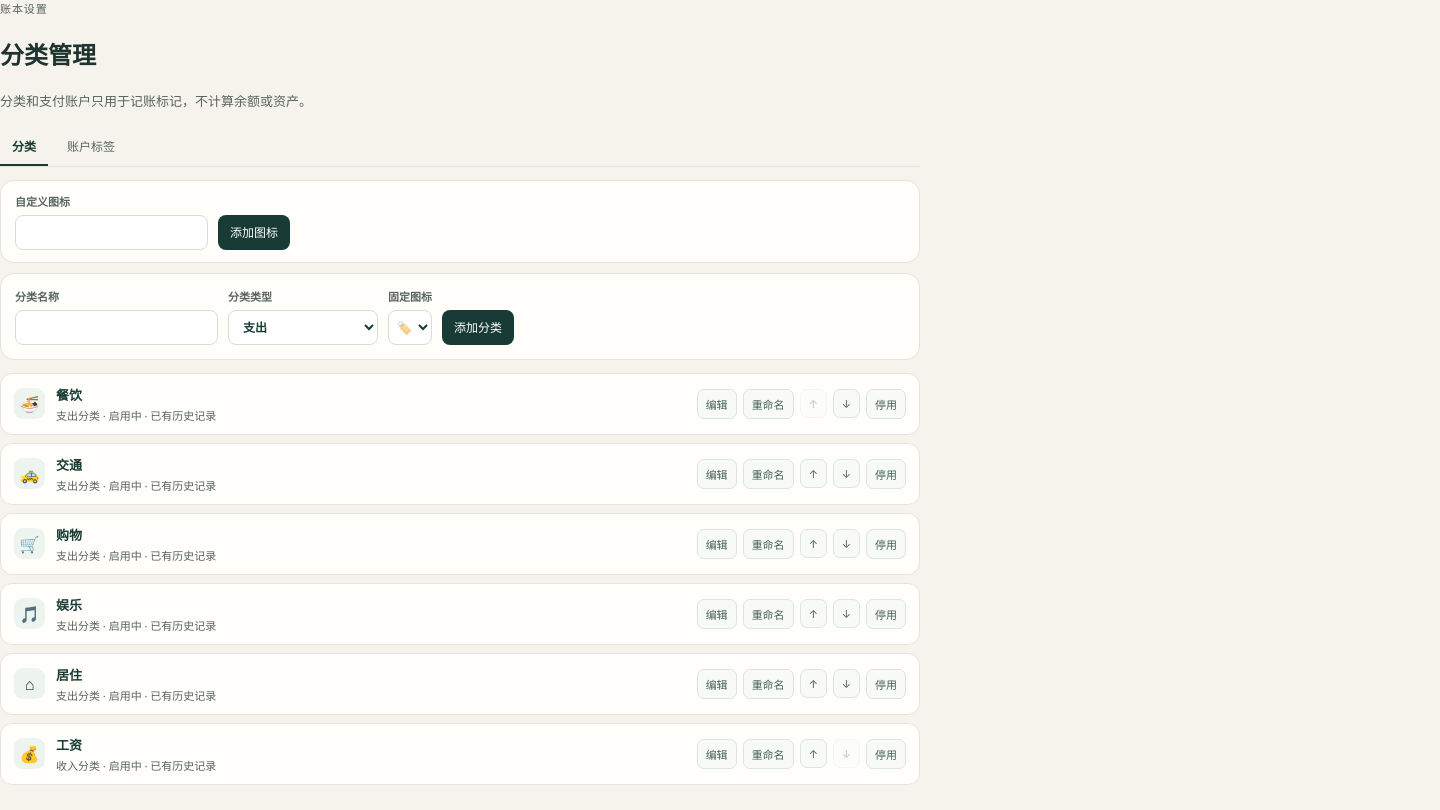
LabelsPage › 迁移回滚失败时在对话框内保留可恢复提示
Click the button "停用" in the row of "餐饮" at (886, 404), box [866,389,906,419]
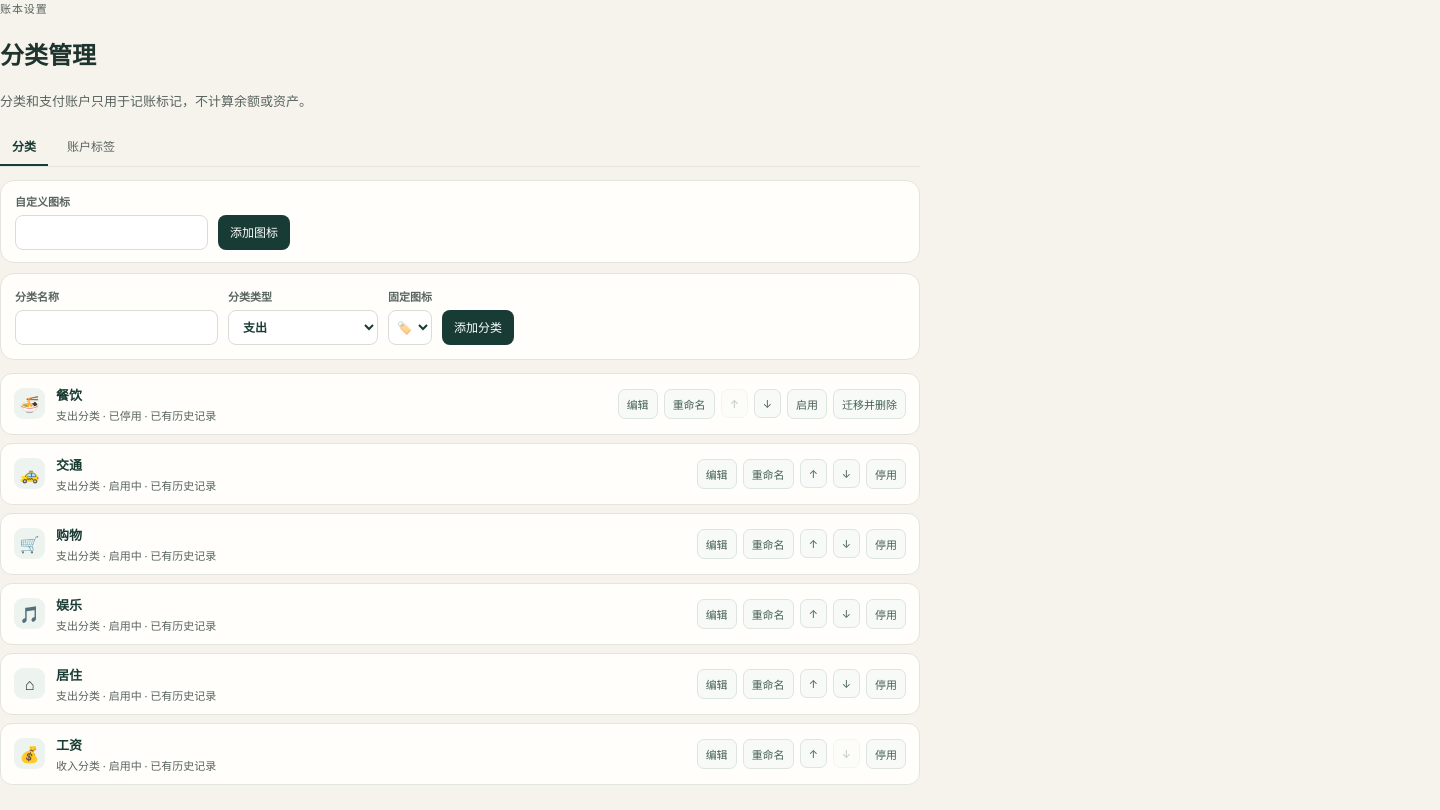
Click the button "迁移并删除" at (870, 404), box [833,389,906,419]
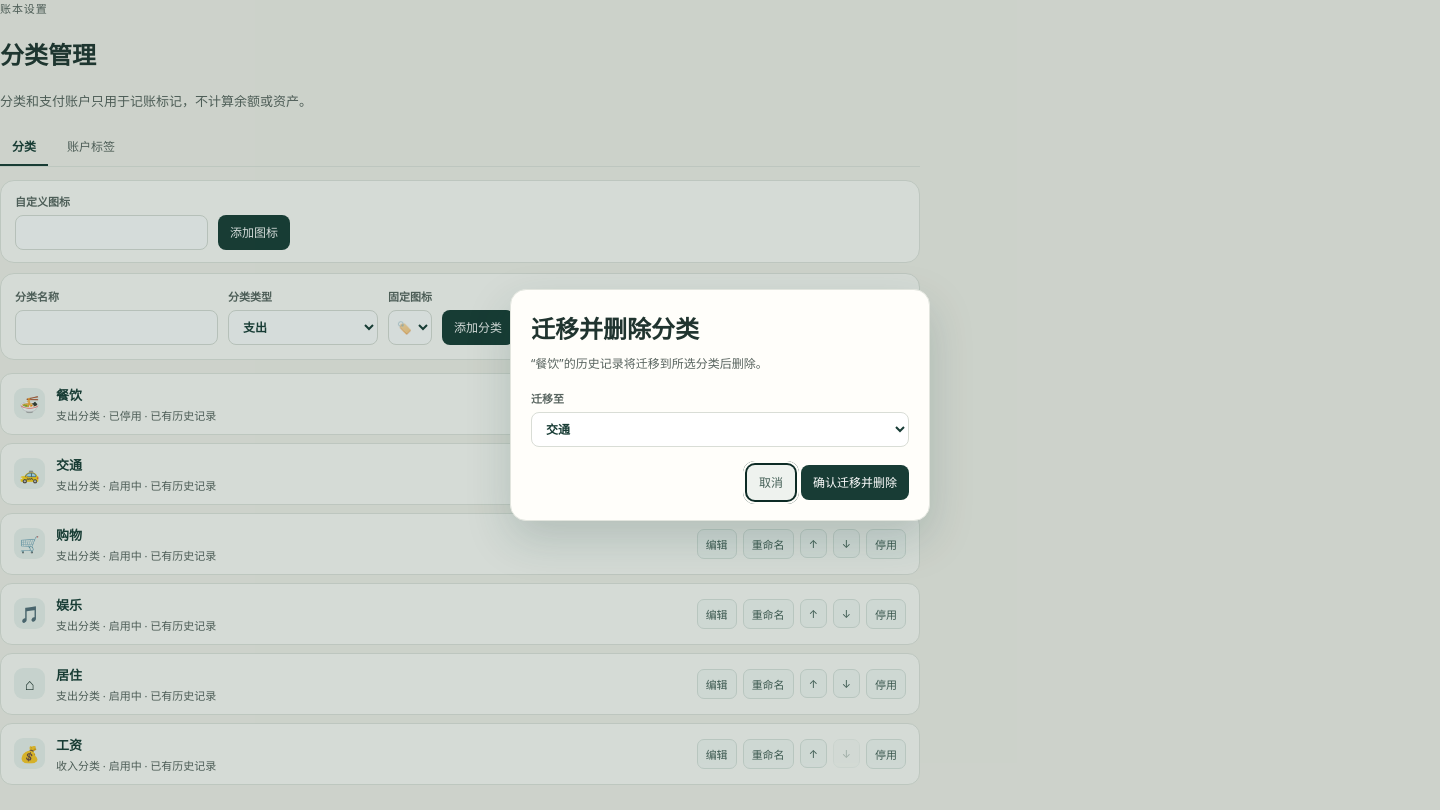
Click the button "确认迁移并删除" at (855, 482), box [801,465,909,500]
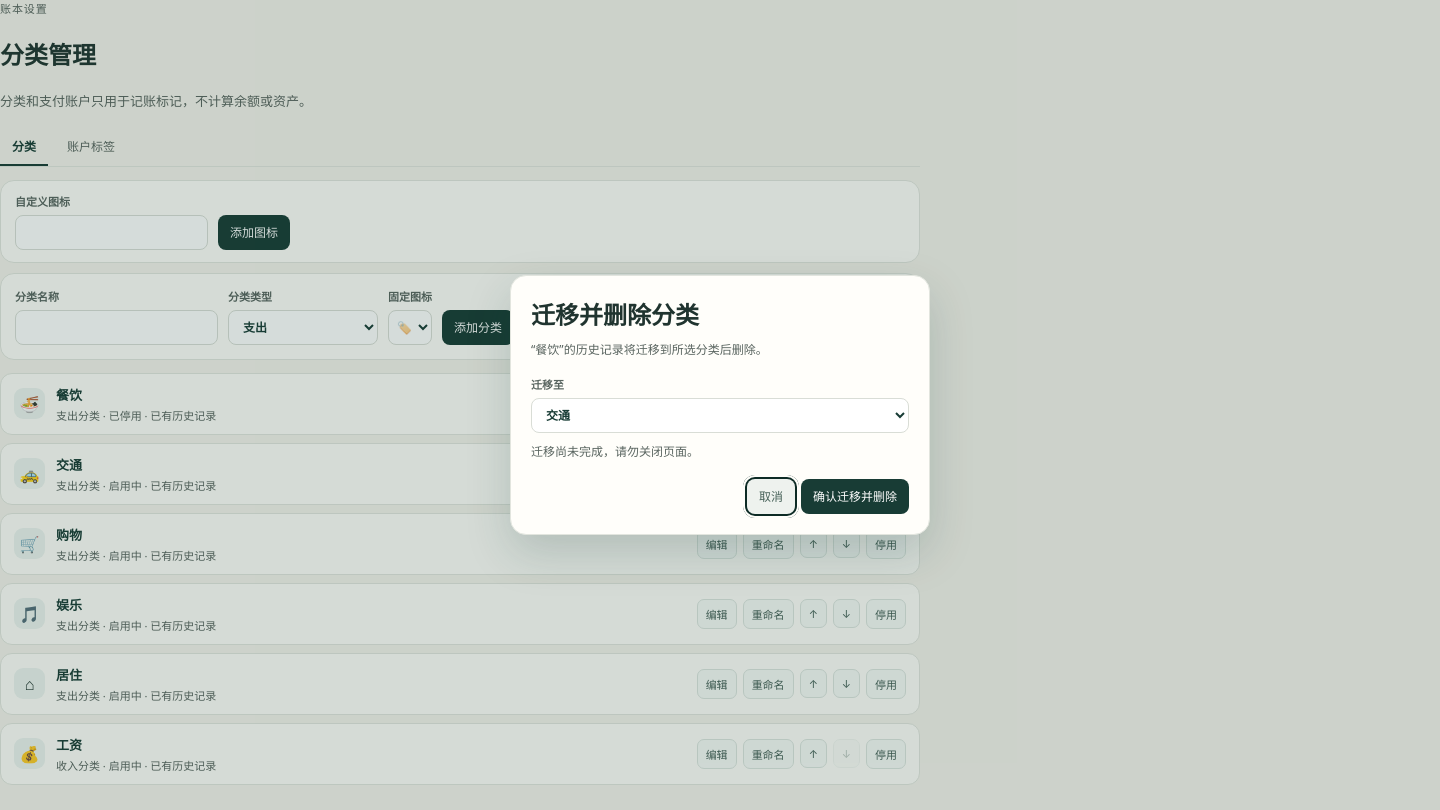
Expected: the list item "🍜 餐饮 支出分类 · 已停用 · 已有历史记录 编辑 重命名 ↑ ↓ 启用 迁移并删除" is shown, [0,373,920,435]
Now the message "迁移尚未完成，请勿关闭页面。" is shown, box [531,442,699,460]
